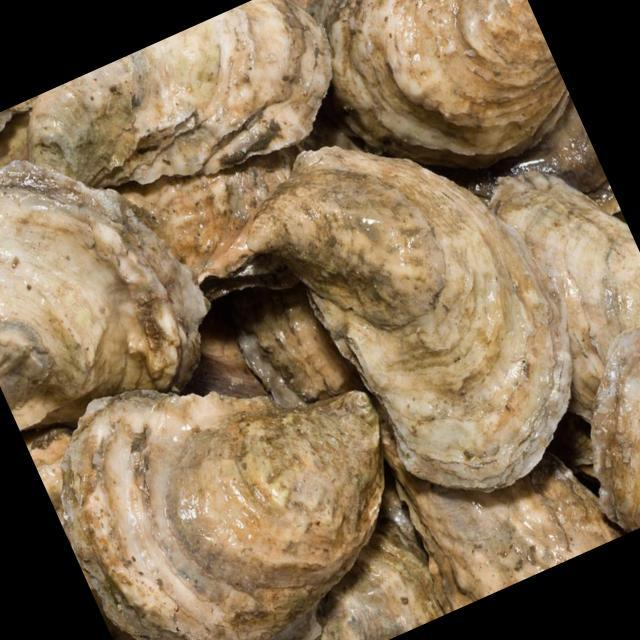Oyster- Indeterminate: (247, 145, 571, 490), (62, 393, 383, 640), (0, 162, 208, 430), (28, 0, 325, 185), (373, 398, 619, 610), (309, 0, 570, 171), (487, 173, 640, 423), (108, 142, 297, 296), (317, 486, 436, 640), (225, 279, 361, 409), (588, 326, 640, 526)
